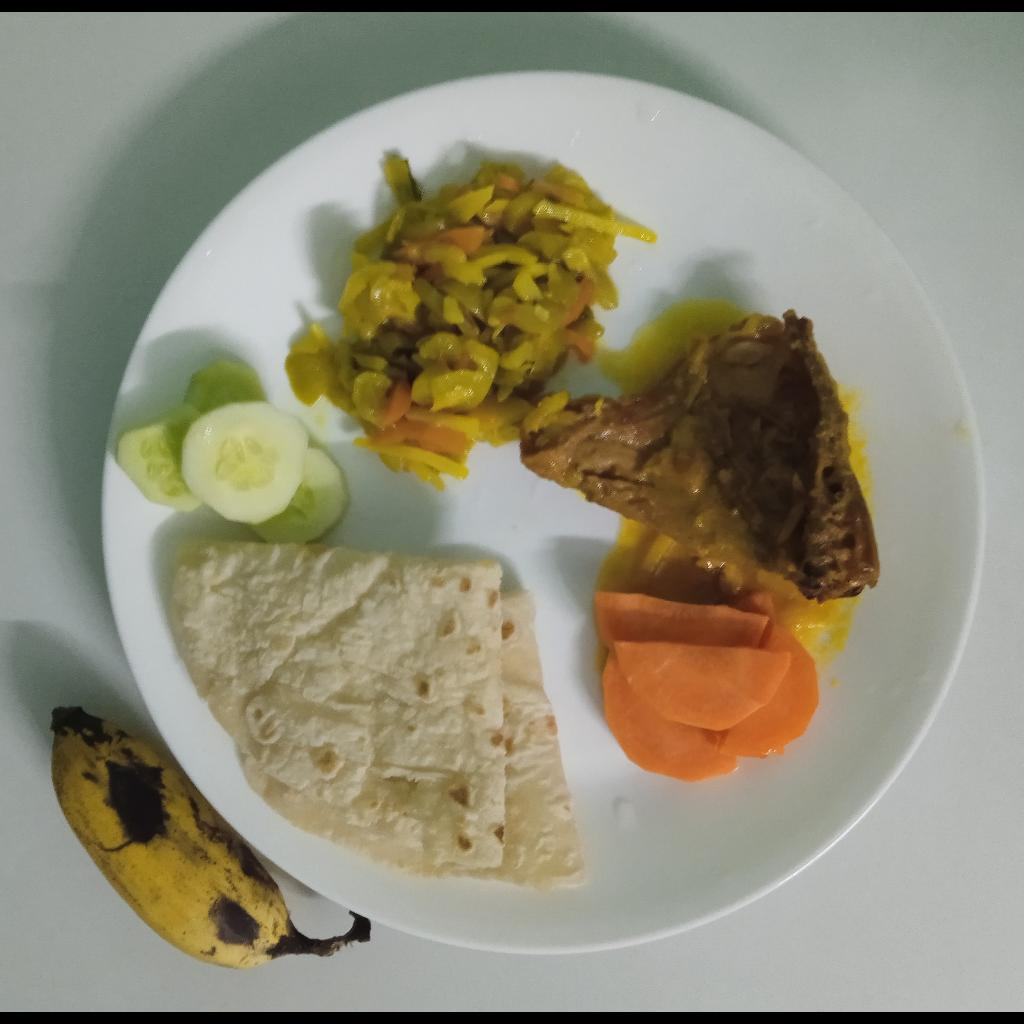banana: (47, 704, 369, 967)
carrot: (591, 584, 828, 787)
chicken: (519, 312, 880, 599)
cucumber: (108, 357, 354, 551)
ruti: (168, 542, 599, 892)
vegetable: (281, 147, 659, 493)
